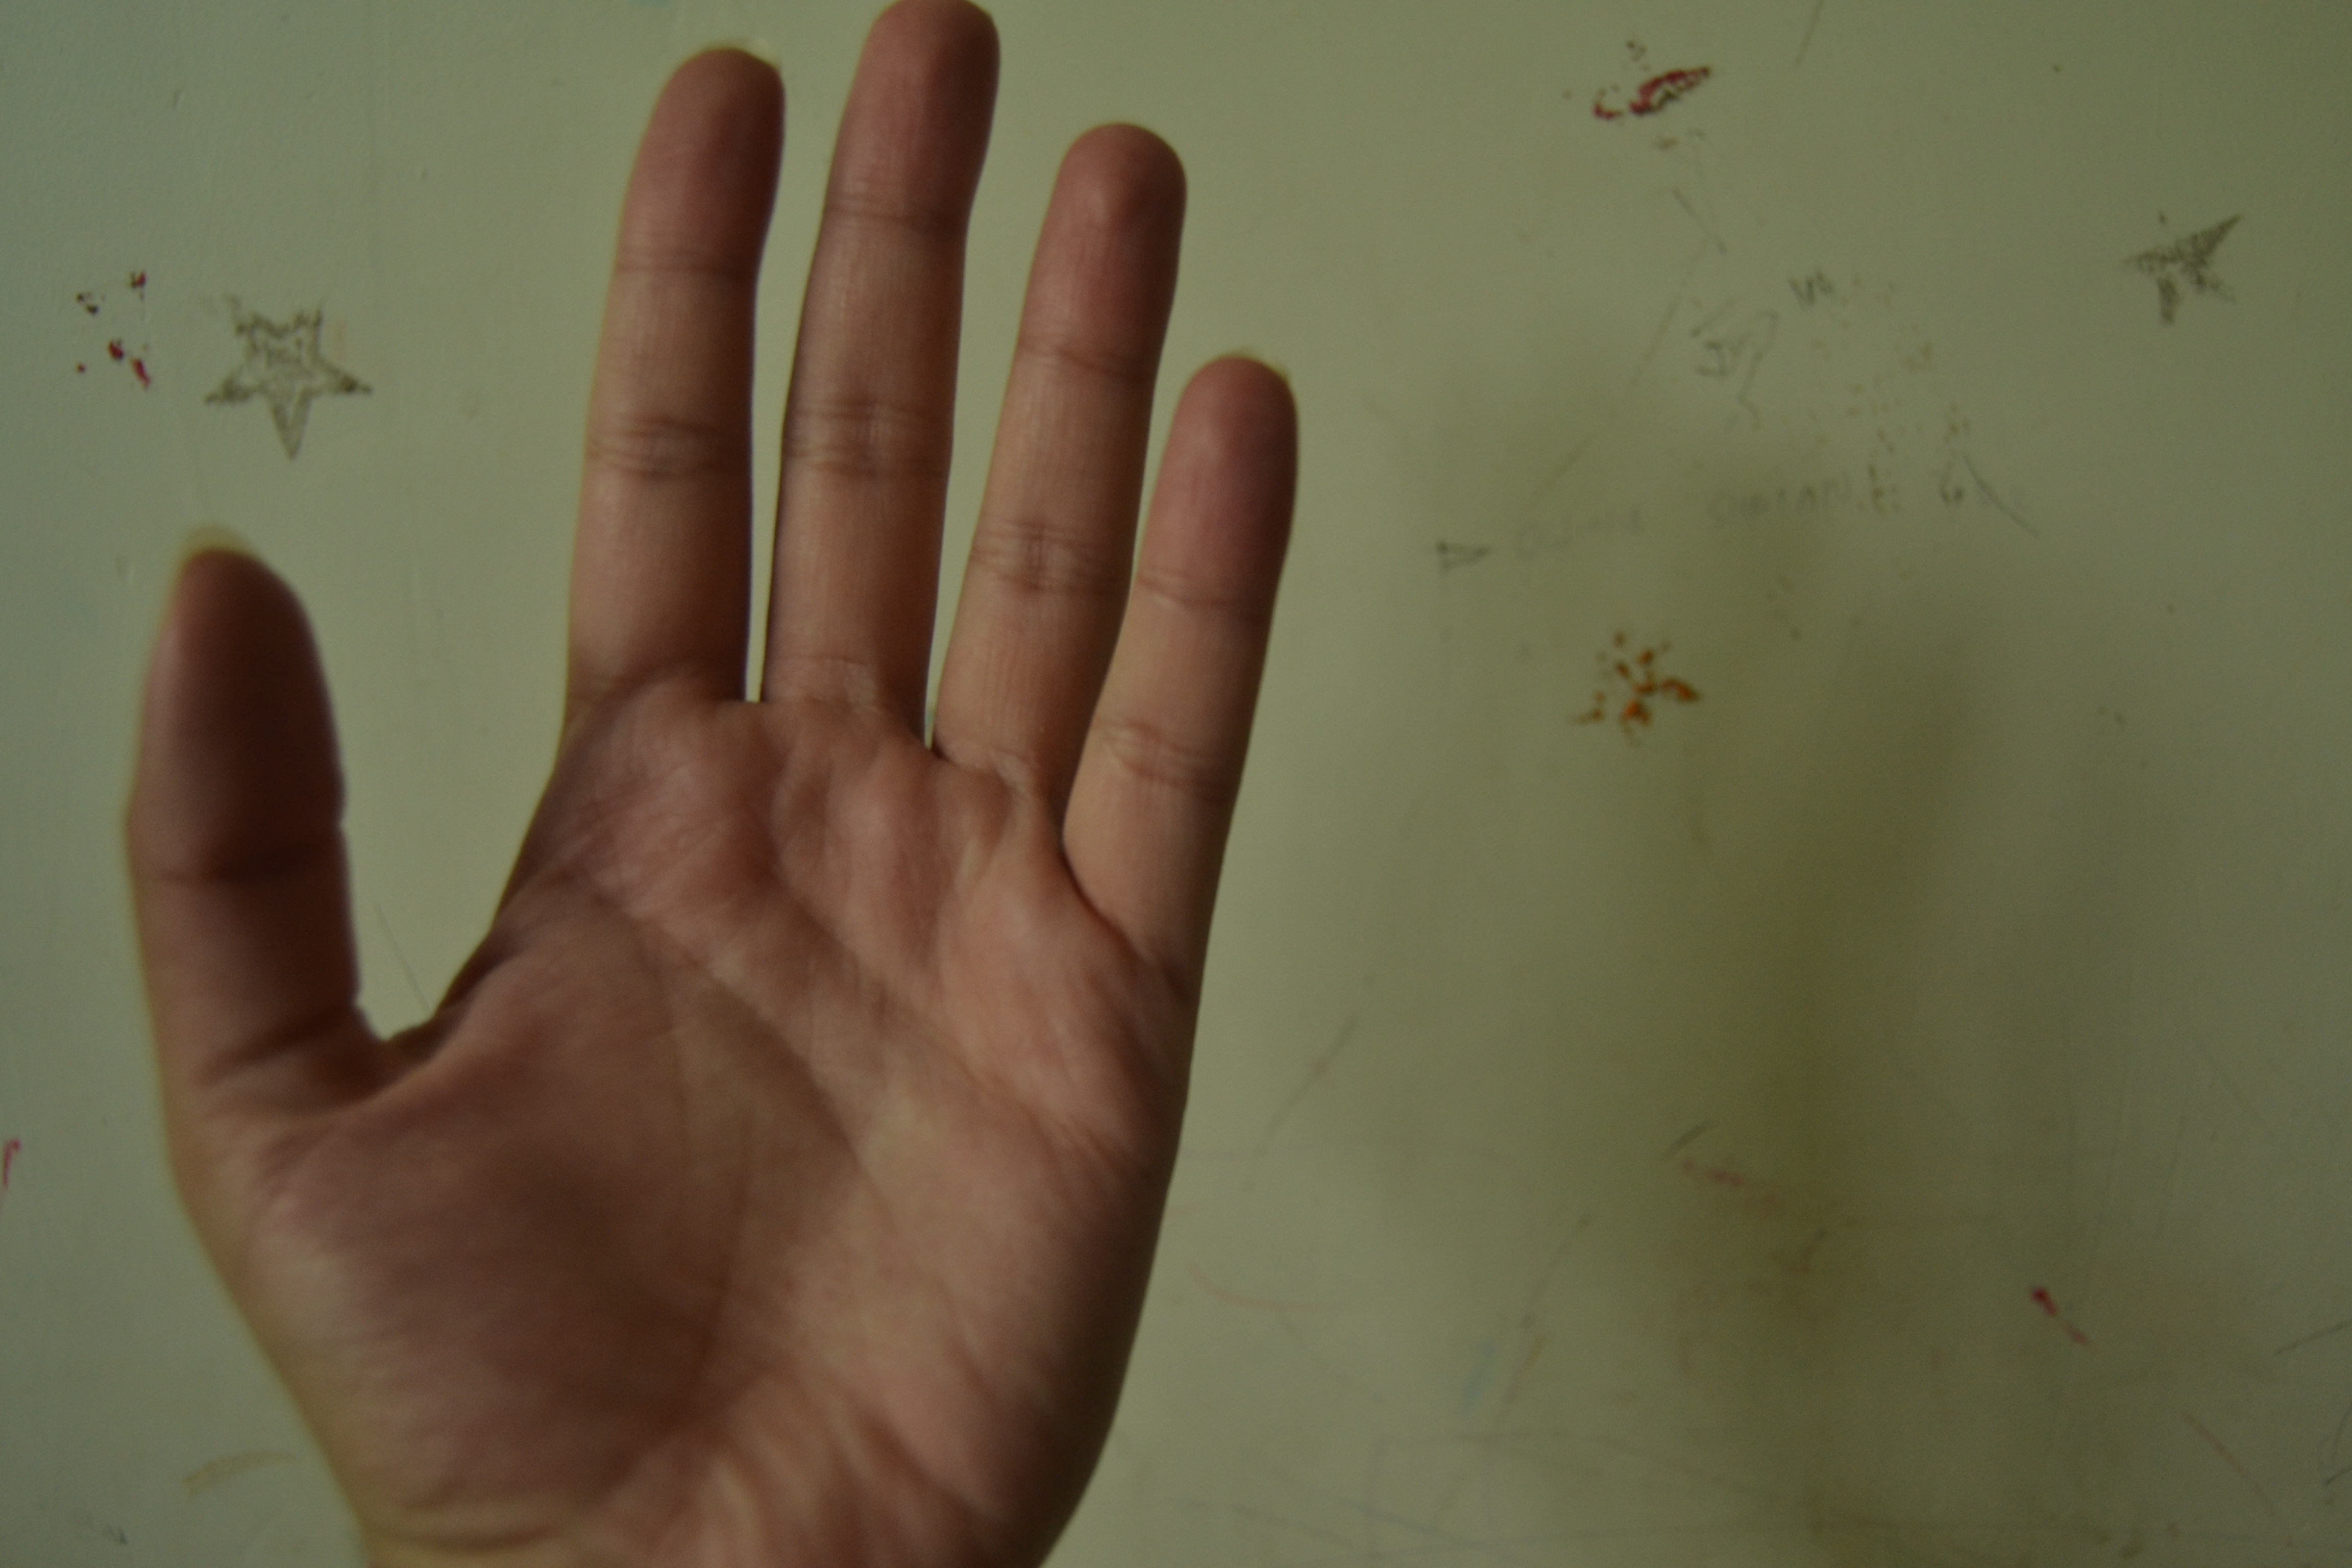move: (117, 54, 1295, 1535)
